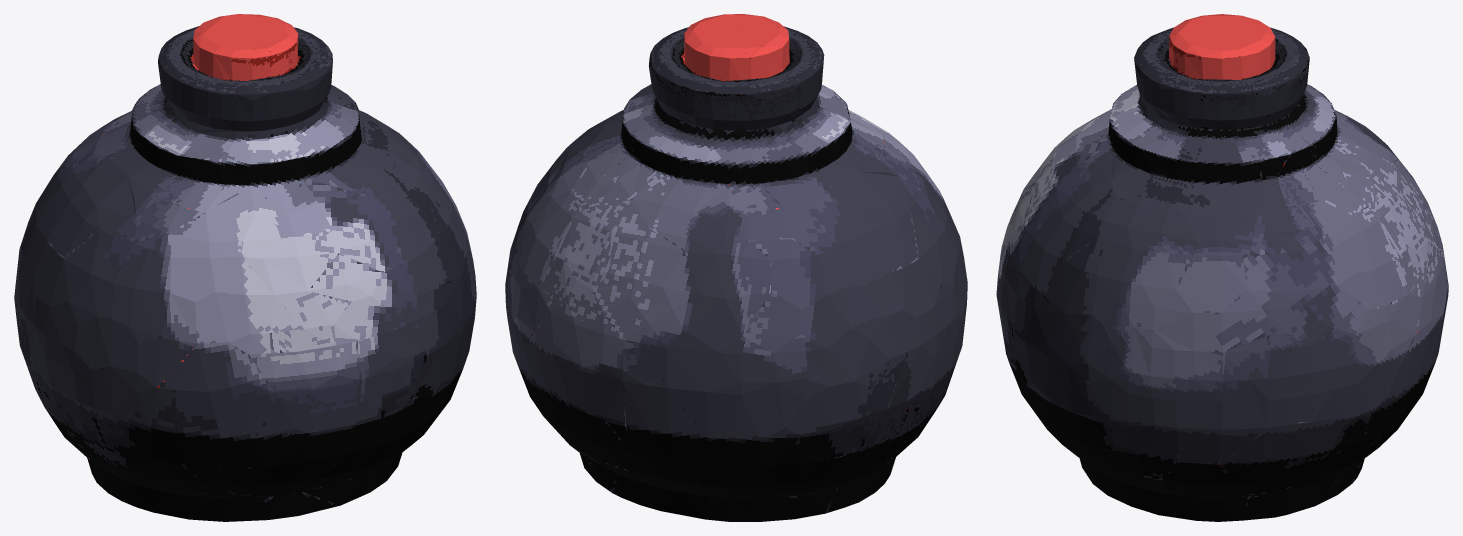
3 views of the same model, side by side, from view 1: azimuth 30°, elevation 25°; view 2: azimuth 150°, elevation 25°; view 3: azimuth 270°, elevation 25° (orthographic).
Parts seen in each view (by area): view 1: OBJ08c; view 2: OBJ08c; view 3: OBJ08c.
Part boxes in pixels (bbox=[...]): OBJ08c: bbox=[14, 14, 476, 521]; OBJ08c: bbox=[505, 14, 967, 521]; OBJ08c: bbox=[996, 14, 1448, 521].
Bounding box in the file's own units: 0.2824 × 0.2946 × 0.2793.
Materials: 1 (1 with a texture image).
